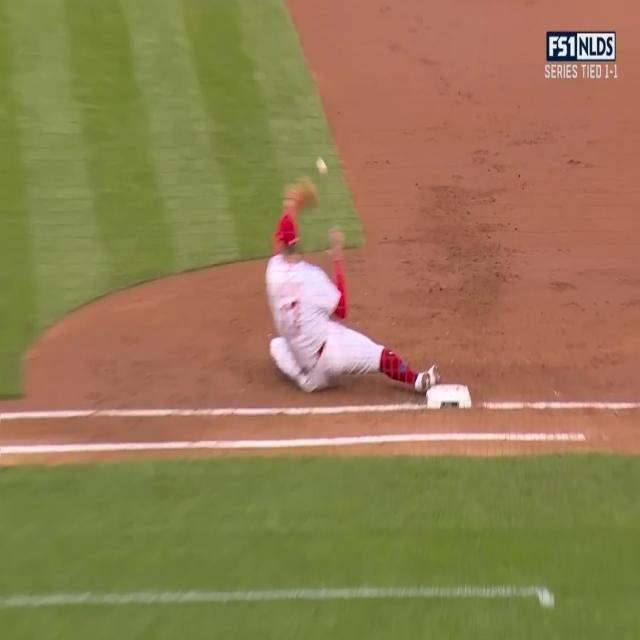baseball: (316, 157, 328, 176)
